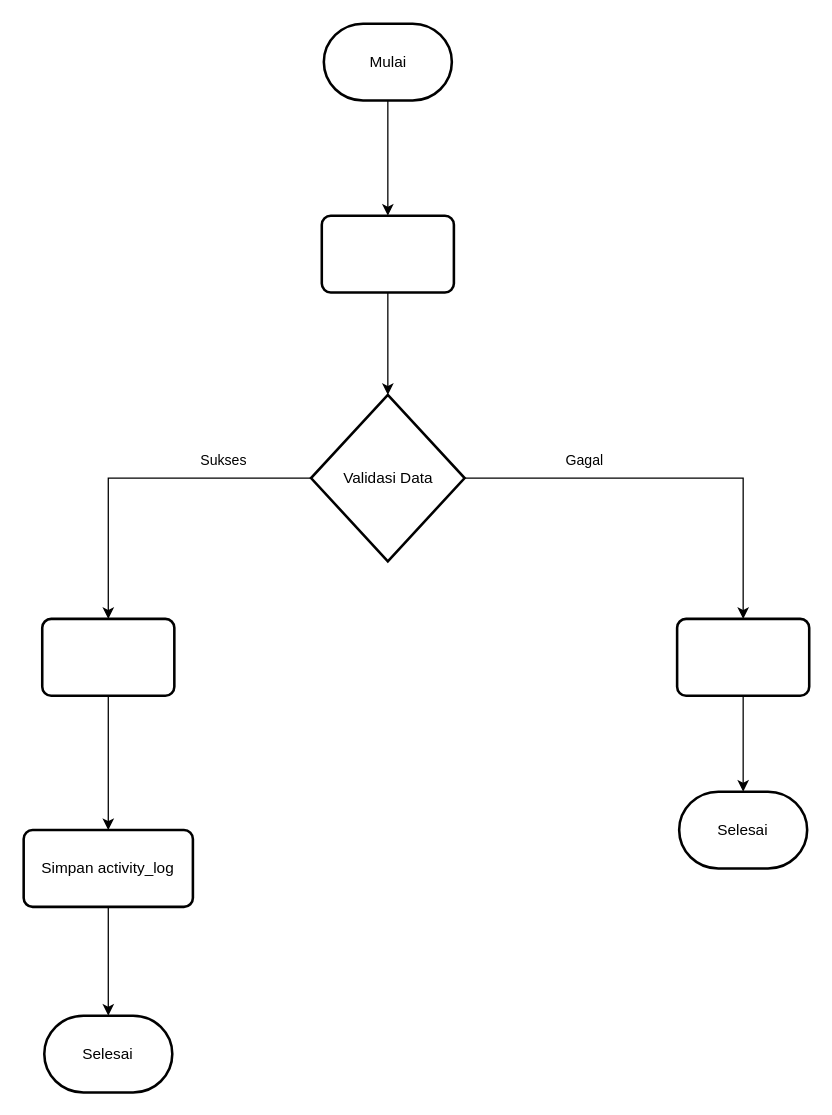
Some shapes in this 832 by 1115 pixel diagram are drawn without their labels. Here are the shapes that lost their labels. From the top down, the centre of each, then its label:
the point at 387,253: Admin Atau Operator Mengisi Data
the point at 107,656: Simpan Ke Database
the point at 742,656: Memunculkan Alert Gagal
